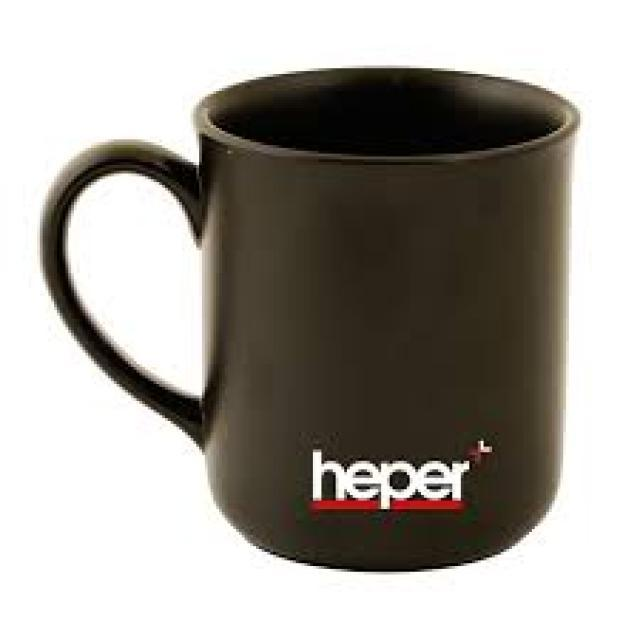taza: (39, 68, 582, 576)
